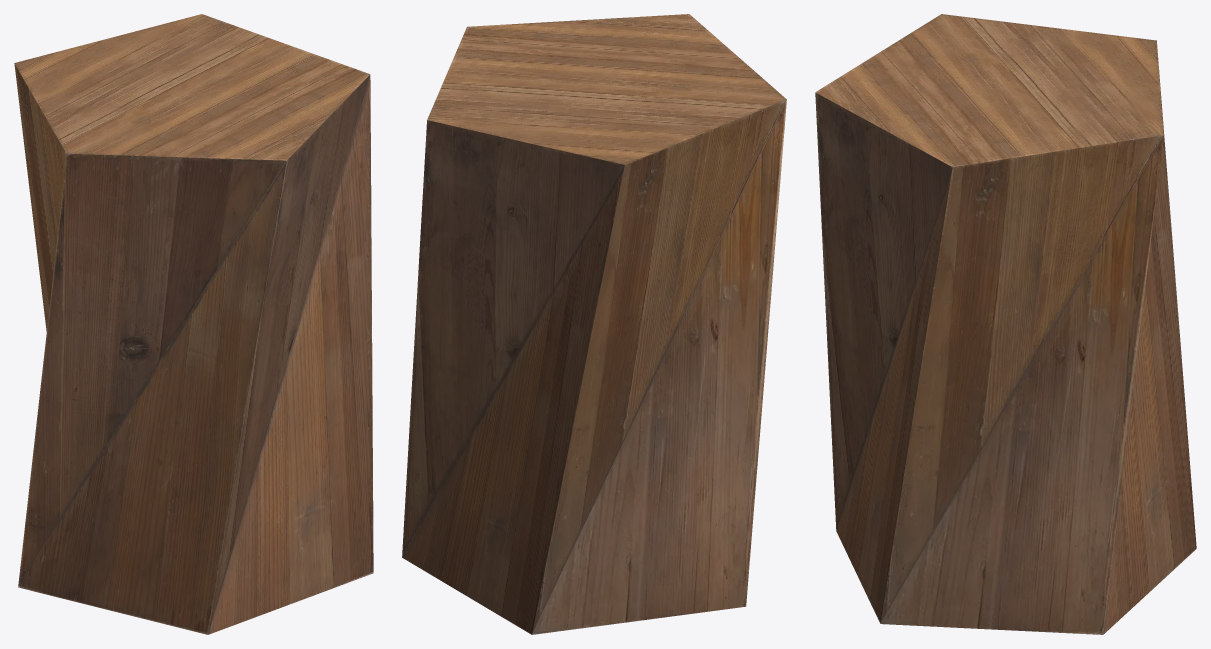
The model's file is side-table.glb.
The picture shows the model from 3 angles, left to right: view 1: azimuth 30°, elevation 25°; view 2: azimuth 150°, elevation 25°; view 3: azimuth 270°, elevation 25°; orthographic projection.
Visible parts, largest first — view 1: RootNode; view 2: RootNode; view 3: RootNode.
Part boxes in pixels (<box>): RootNode: <box>14,14,373,634</box>; RootNode: <box>402,14,786,634</box>; RootNode: <box>815,14,1196,634</box>.
Bounding box in the file's own units: 0.425 × 0.6041 × 0.4408.
Materials: 1 (1 with a texture image).
